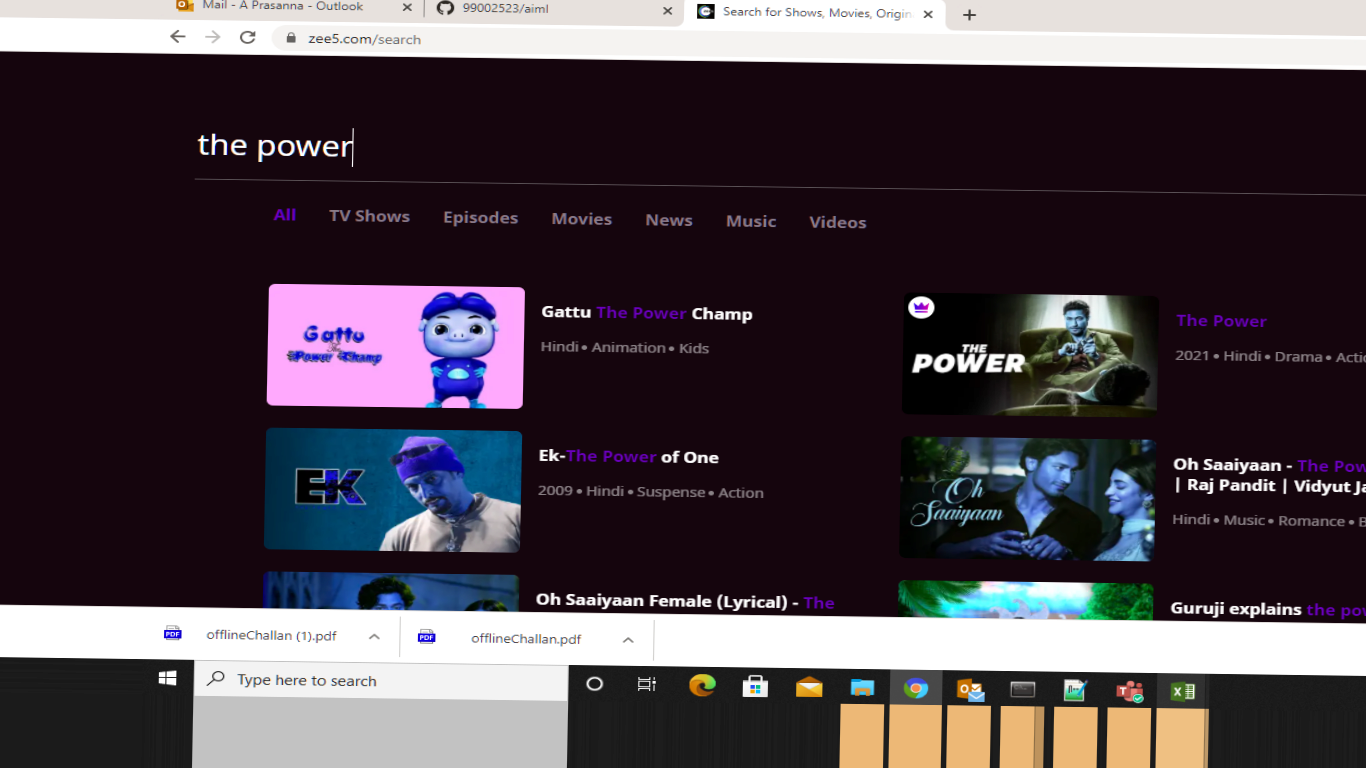searchtextbox: (146, 83, 1349, 204)
